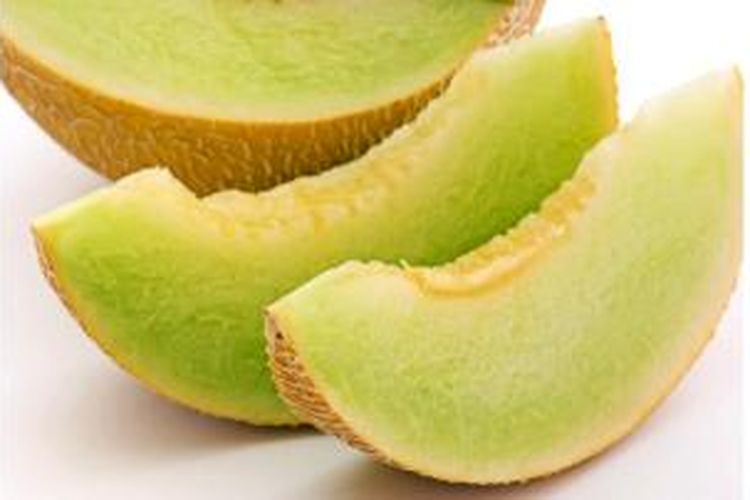Melon: (232, 56, 749, 467), (84, 12, 620, 385)
